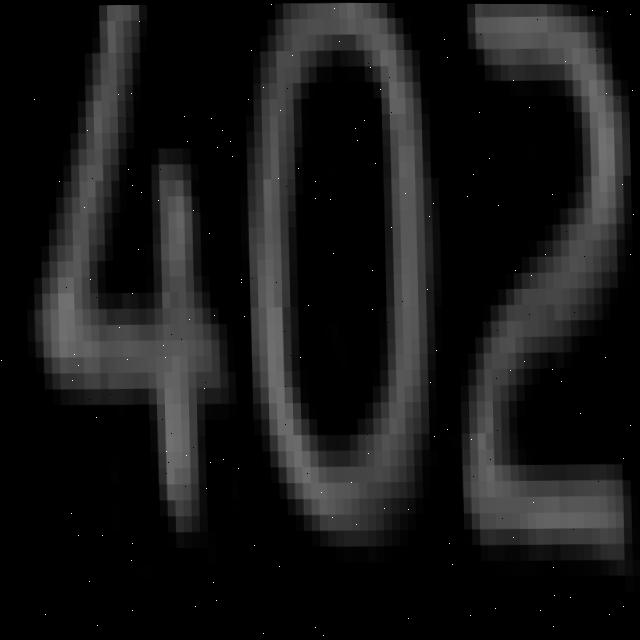character: (234, 2, 456, 580), (11, 2, 240, 551), (442, 3, 640, 594)
